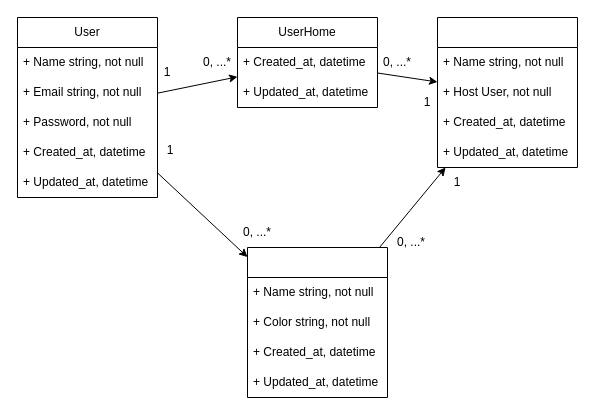
Some shapes in this 595 by 415 pixel diagram are drawn without their labels. The shapes that lost their labels are listed below. From the top down, each one's box as (x1, y1, x2, y2) in pixels, then its label:
(436, 16, 578, 168): Home
(246, 246, 388, 398): Cloth
